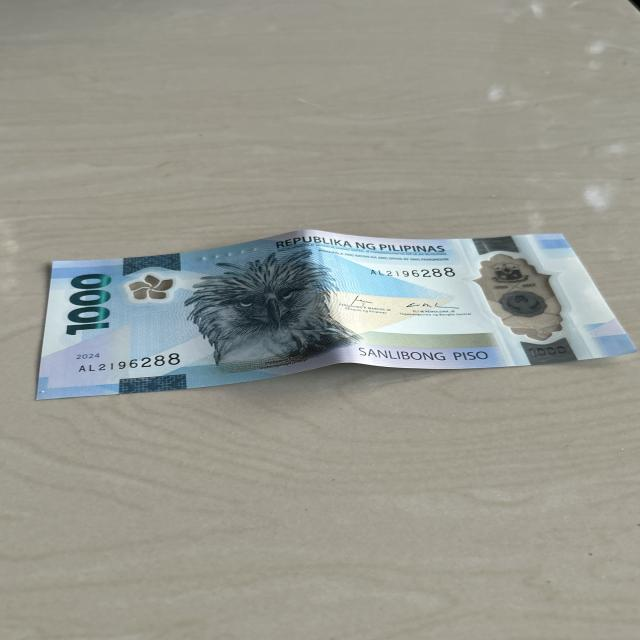clear_window: (474, 243, 566, 344)
eagle: (186, 260, 347, 360)
sampaguita: (120, 275, 182, 301)
